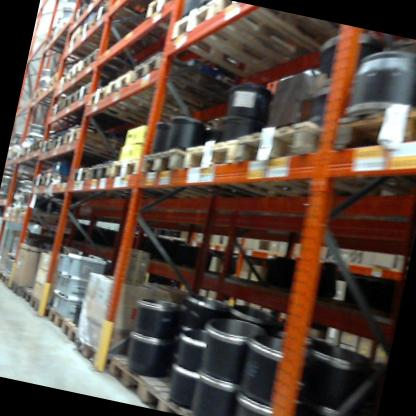pallet: (226, 92, 387, 218), (163, 0, 330, 94), (180, 120, 316, 201), (325, 69, 416, 188), (136, 129, 241, 202), (128, 45, 228, 110), (92, 61, 190, 122), (102, 350, 194, 413), (82, 78, 168, 138), (107, 148, 190, 204), (60, 120, 132, 164), (41, 94, 109, 134), (65, 320, 115, 369), (143, 382, 213, 416), (142, 0, 206, 29), (60, 86, 107, 121), (85, 155, 119, 190), (92, 0, 161, 17), (37, 166, 76, 196), (82, 43, 112, 74), (75, 76, 103, 107), (24, 291, 52, 322), (57, 311, 83, 344), (68, 159, 94, 189), (45, 299, 69, 328), (50, 129, 70, 154), (3, 276, 22, 299), (32, 136, 50, 157), (17, 281, 33, 303), (31, 166, 46, 188), (0, 267, 11, 286)
